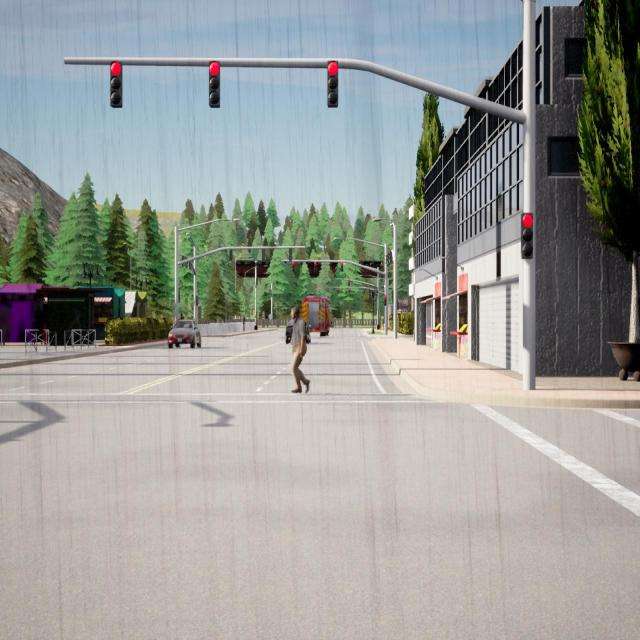Pedestrian: (291, 306, 310, 394), (242, 317, 245, 332), (180, 314, 184, 320)
Traffic_Signs: (269, 314, 272, 319)
Vehicle: (302, 296, 331, 336), (168, 320, 201, 348), (286, 319, 310, 344)
traffic_light: (110, 61, 122, 108), (521, 213, 533, 259), (209, 61, 220, 107), (328, 60, 338, 107), (289, 248, 292, 261), (391, 290, 394, 303), (262, 249, 265, 261), (178, 288, 180, 303), (314, 262, 317, 272), (185, 258, 188, 268), (388, 253, 390, 265), (390, 252, 392, 264), (182, 256, 184, 267), (230, 250, 232, 260), (292, 262, 294, 272), (341, 261, 343, 271), (384, 296, 386, 306), (386, 256, 388, 266), (196, 296, 198, 305), (189, 261, 191, 269), (348, 279, 350, 286), (337, 288, 339, 294), (256, 278, 258, 284), (363, 288, 365, 293), (349, 288, 350, 293), (270, 290, 271, 294)
